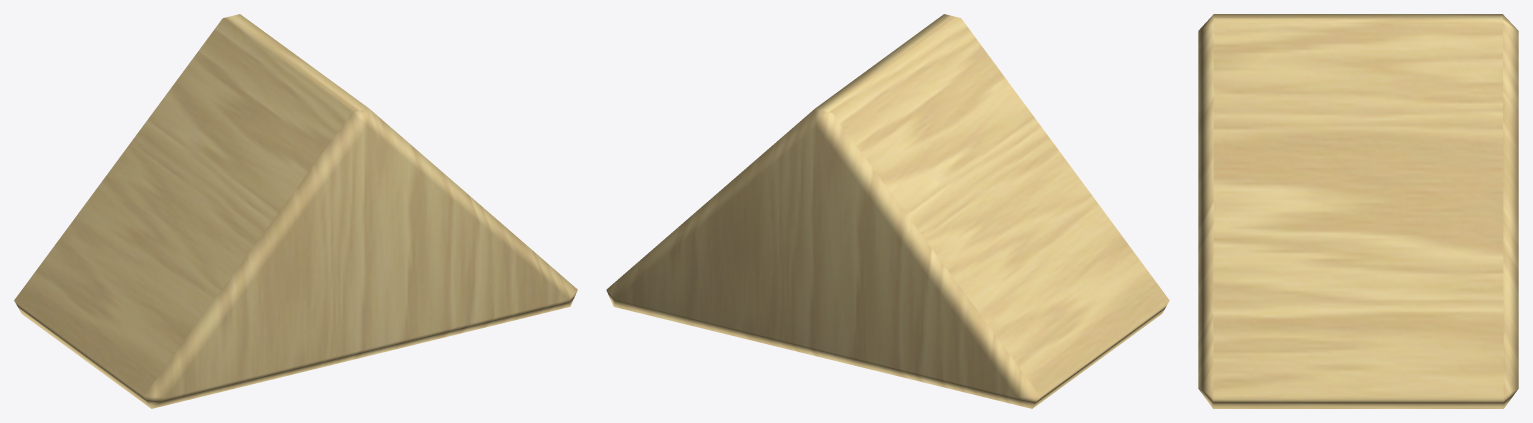
The model's file is BgMD_BuildingBlocks_04.fbx.
The picture shows the model from 3 angles, left to right: view 1: azimuth 30°, elevation 25°; view 2: azimuth 150°, elevation 25°; view 3: azimuth 270°, elevation 25°; orthographic projection. The views are drawn at different scales.
Parts seen in each view (by area): view 1: BgMD_BuildingBlocks_04; view 2: BgMD_BuildingBlocks_04; view 3: BgMD_BuildingBlocks_04.
Part boxes in pixels (x1=…): BgMD_BuildingBlocks_04: x1=14, y1=14, x2=577, y2=408; BgMD_BuildingBlocks_04: x1=606, y1=14, x2=1169, y2=408; BgMD_BuildingBlocks_04: x1=1198, y1=14, x2=1518, y2=408.
Bounding box in the file's own units: 175 × 95.08 × 100.
